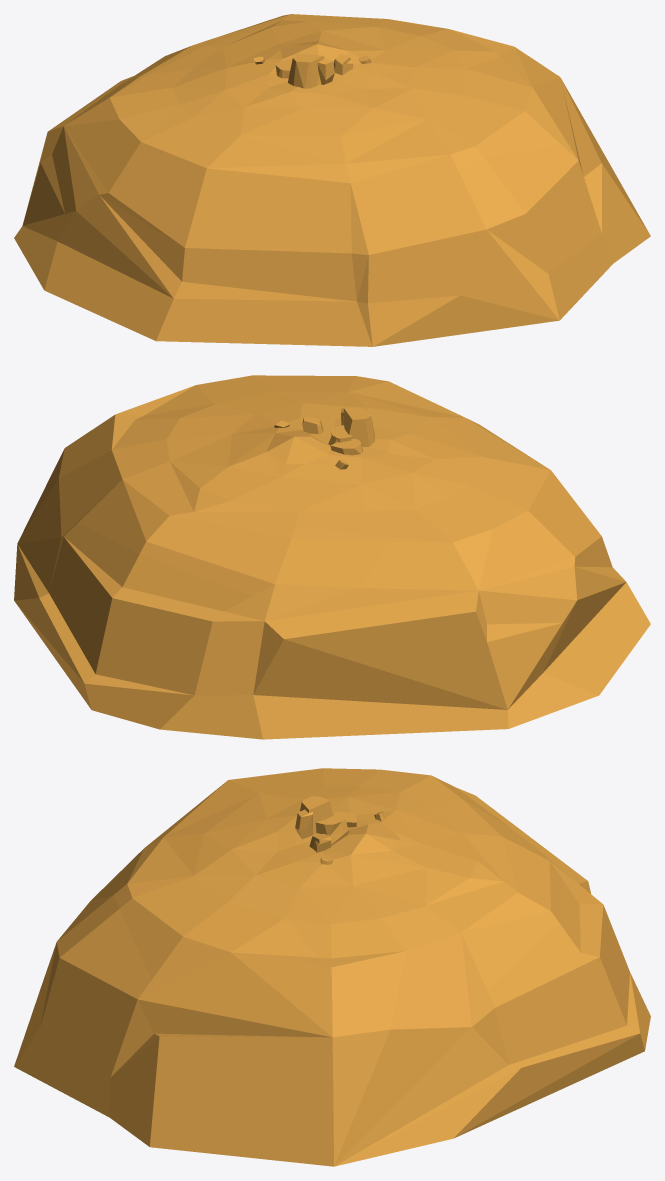
The model's file is island-sand-tiny.fbx.
The picture shows the model from 3 angles, top to bottom: view 1: azimuth 30°, elevation 25°; view 2: azimuth 150°, elevation 25°; view 3: azimuth 270°, elevation 25°; orthographic projection. The views are drawn at different scales.
Visible parts, largest first — view 1: island-sand-tiny; view 2: island-sand-tiny; view 3: island-sand-tiny.
Boxes of the visible parts, x1,y1,x2,y2 form: island-sand-tiny: [14, 14, 650, 346]; island-sand-tiny: [14, 375, 650, 739]; island-sand-tiny: [14, 768, 650, 1166].
Bounding box in the file's own units: 88.72 × 29.21 × 82.56.
